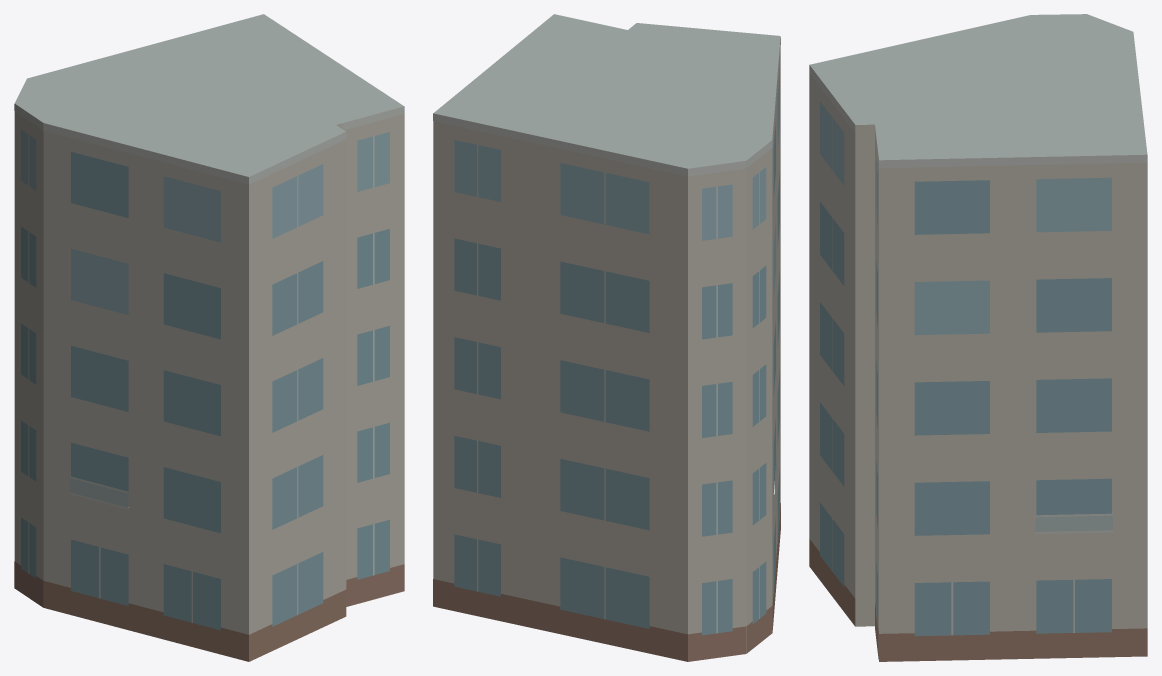
Rendered from survey-upis-32994767.glb.
3 renders of one model, left to right at view 1: azimuth 30°, elevation 25°; view 2: azimuth 150°, elevation 25°; view 3: azimuth 270°, elevation 25°, orthographic. The views are drawn at different scales.
Parts seen in each view (by area): view 1: survey-upis-32994767.tmp; view 2: survey-upis-32994767.tmp; view 3: survey-upis-32994767.tmp.
Boxes of the visible parts, left/top/right/bottom form: survey-upis-32994767.tmp: left=14, top=14, right=404, bottom=661; survey-upis-32994767.tmp: left=433, top=14, right=780, bottom=661; survey-upis-32994767.tmp: left=809, top=14, right=1147, bottom=661.
Bounding box in the file's own units: 9.76 × 15.6 × 9.54.
